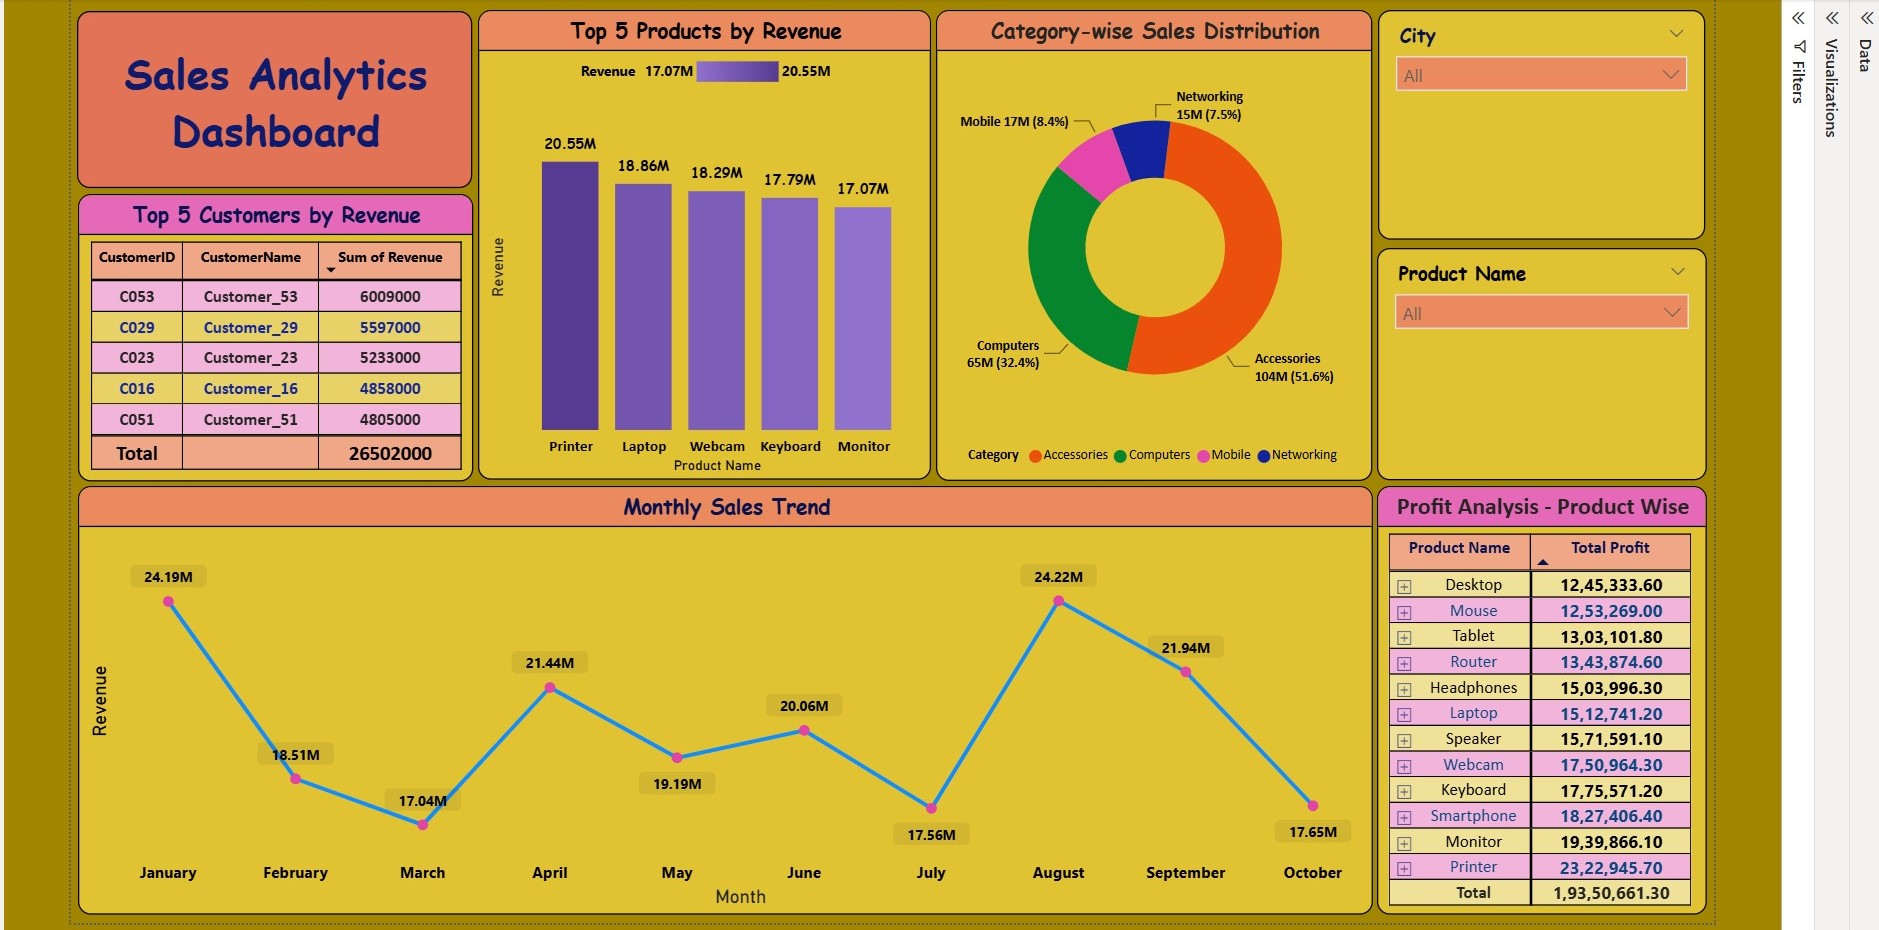

What the dashboard file says about the page in this screenshot:
{"tool":"powerbi","page":{"name":"Dashboard","canvas":[1280,720],"ordinal":0},"visuals":[{"type":"columnChart","title":"Top 5 Products by Revenue","fields":{"Category":["Products.ProductName"],"Y":["Sum(Sales.Revenue)"]},"box":[317.2,8.6,353.4,366.3],"z":0},{"type":"lineChart","title":"Monthly Sales Trend","fields":{"Y":["Sum(Sales.Revenue)"],"Category":["Sales.Date.Variation.Date Hierarchy.Month"]},"box":[5.2,379.3,1009,334.4],"z":1000},{"type":"tableEx","title":"Top 5 Customers by Revenue","fields":{"Values":["Sales.CustomerID","Customers.CustomerName","Sum(Sales.Revenue)"]},"box":[5.2,151.7,307.7,224.1],"z":2000},{"type":"donutChart","title":"Category-wise Sales Distribution","fields":{"Category":["Products.Category"],"Y":["Sum(Sales.Revenue)"]},"box":[674,8.6,339.6,367.2],"z":3000},{"type":"pivotTable","title":"Profit Analysis - Product Wise","fields":{"Values":["Sum(Sales.Profit)"],"Rows":["Products.ProductName","Products.ProductID"]},"box":[1018,379.3,257,334.4],"z":4000},{"type":"slicer","fields":{"Values":["Customers.City"]},"box":[1018.8,8.6,255.1,179.3],"z":5000},{"type":"slicer","fields":{"Values":["Products.ProductName"]},"box":[1018,194,257,181],"z":6000},{"type":"textbox","box":[5,9,308,138],"z":7000}]}

Visuals, with their boxes in screenshot pixels (x1, y1, x2, y2):
"Top 5 Products by Revenue" columnChart: x1=477, y1=6, x2=927, y2=473
"Monthly Sales Trend" lineChart: x1=80, y1=478, x2=1365, y2=904
"Top 5 Customers by Revenue" tableEx: x1=80, y1=188, x2=472, y2=474
"Category-wise Sales Distribution" donutChart: x1=932, y1=6, x2=1364, y2=474
"Profit Analysis - Product Wise" pivotTable: x1=1370, y1=478, x2=1697, y2=904
slicer - Customers.City: x1=1371, y1=6, x2=1696, y2=234
slicer - Products.ProductName: x1=1370, y1=242, x2=1697, y2=473
textbox: x1=80, y1=7, x2=472, y2=182
